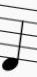note: (1, 2, 25, 73)
